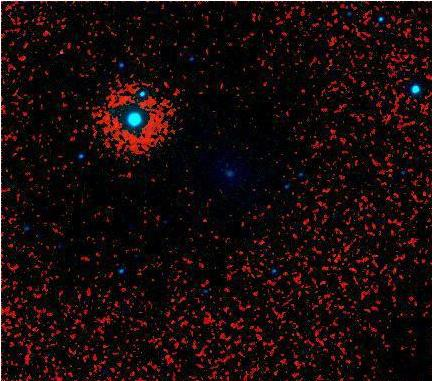star: (46, 37, 76, 67)
